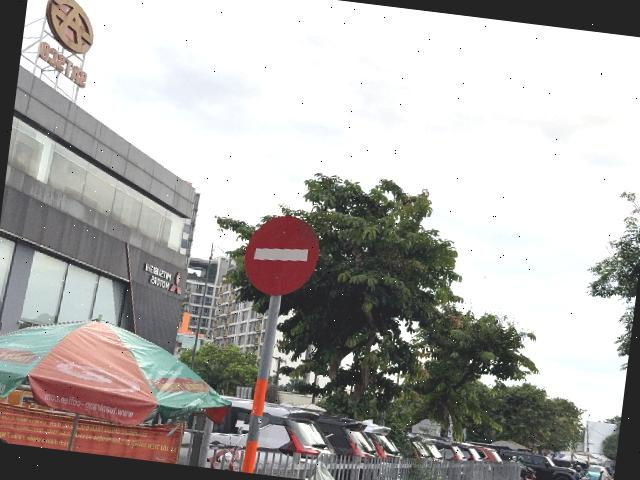cam-di-nguoc-chieu: (240, 211, 324, 300)
